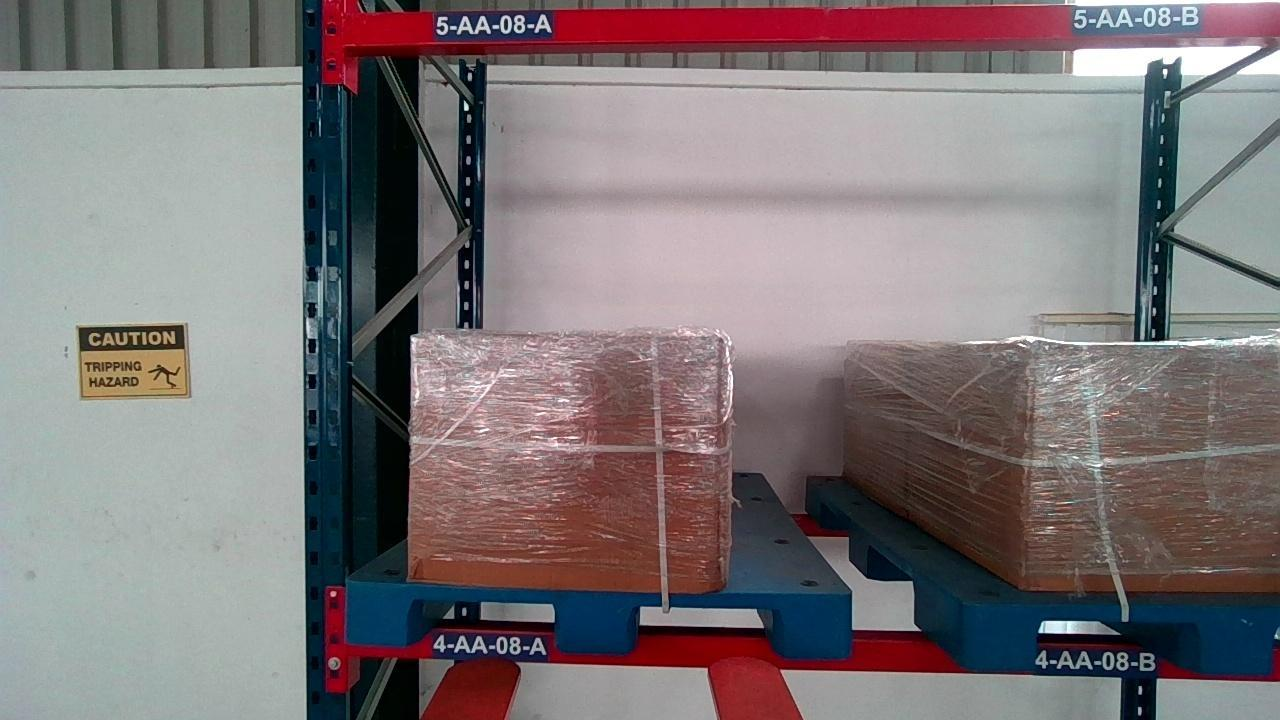h_rack: (335, 625, 1280, 682), (349, 0, 1280, 44)
small_pallet: (344, 587, 853, 654), (987, 605, 1280, 680)
